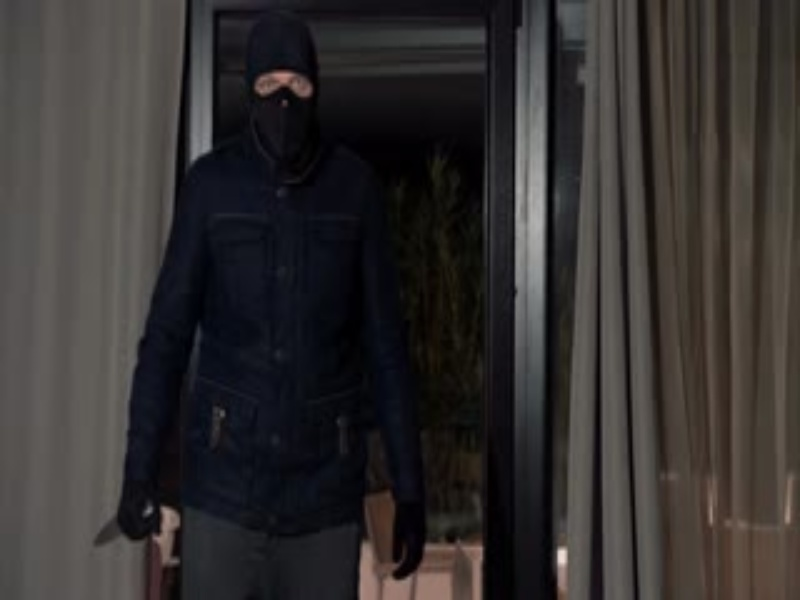balaclava: (246, 17, 320, 167)
hand: (117, 467, 164, 540), (390, 498, 424, 579)
knife: (91, 512, 122, 548)
person: (117, 18, 426, 600)
